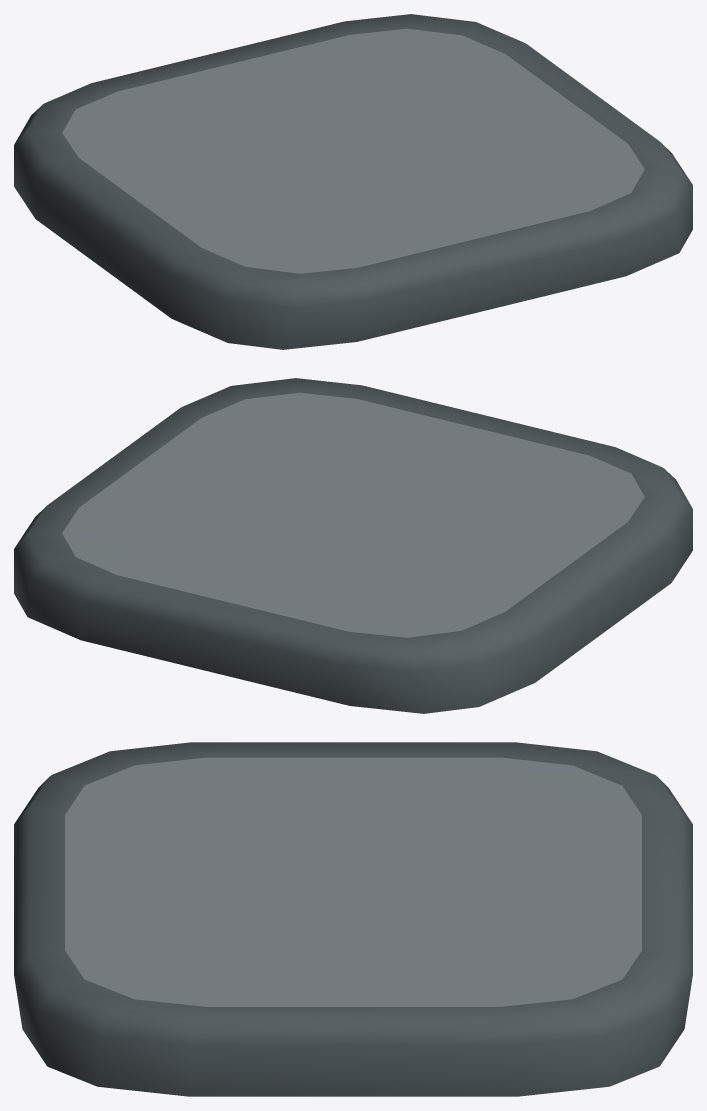
Rendered from SlotIndicator.fbx.
3 views of the same model, one above another, from view 1: azimuth 30°, elevation 25°; view 2: azimuth 150°, elevation 25°; view 3: azimuth 270°, elevation 25° (orthographic). The views are drawn at different scales.
Parts seen in each view (by area): view 1: SlotIndicator; view 2: SlotIndicator; view 3: SlotIndicator.
Boxes of the visible parts, box(x1,y1,x2,y2) form: SlotIndicator: box(14, 14, 692, 349); SlotIndicator: box(14, 378, 692, 713); SlotIndicator: box(14, 742, 692, 1096).
Bounding box in the file's own units: 225 × 24.49 × 220.
